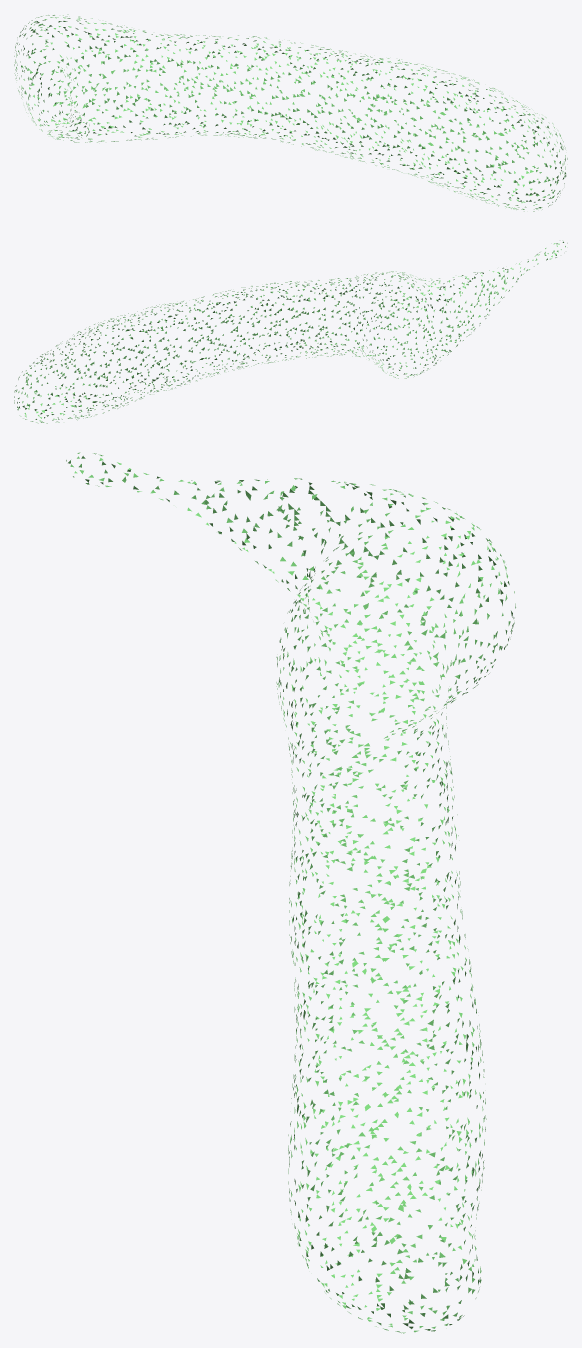
Rendered from morph_017.glb.
3 renders of one model, top to bottom at view 1: azimuth 30°, elevation 25°; view 2: azimuth 150°, elevation 25°; view 3: azimuth 270°, elevation 25°, orthographic. The views are drawn at different scales.
Size of the model in its own units: 126 by 60.61 by 53.62.
